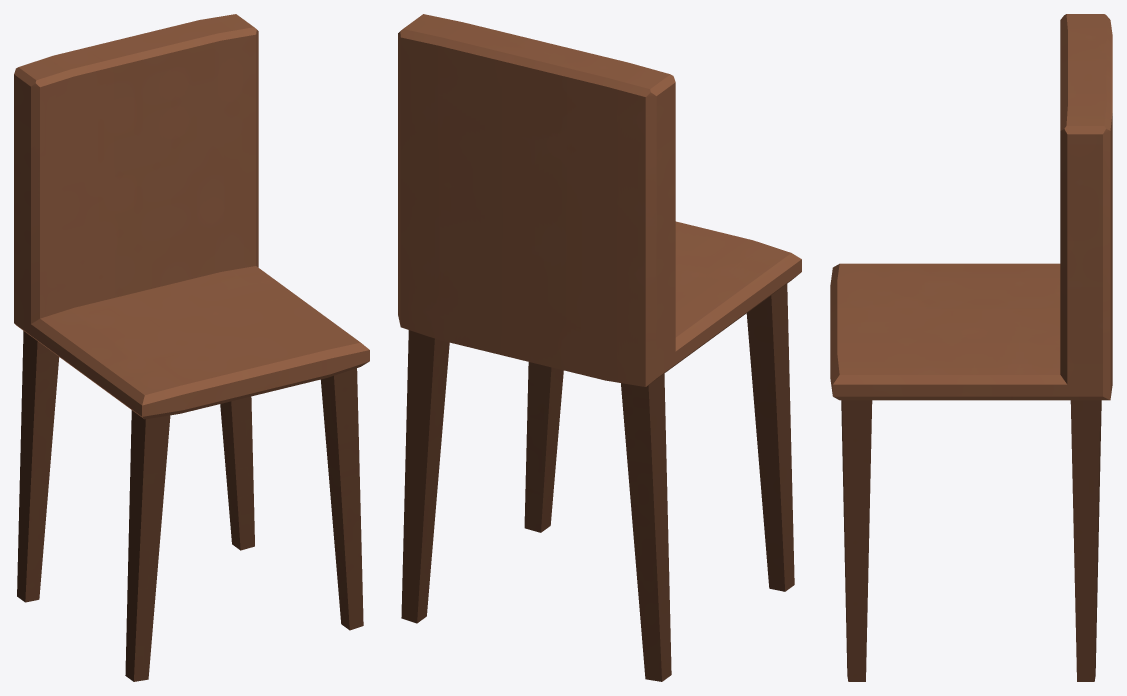
Rendered from Chair_02_01.fbx.
3 renders of one model, left to right at view 1: azimuth 30°, elevation 25°; view 2: azimuth 150°, elevation 25°; view 3: azimuth 270°, elevation 25°, orthographic. The views are drawn at different scales.
Parts seen in each view (by area): view 1: Chair_02_01; view 2: Chair_02_01; view 3: Chair_02_01.
Part boxes in pixels (<box>): Chair_02_01: <box>14,14,369,681</box>; Chair_02_01: <box>398,14,801,681</box>; Chair_02_01: <box>830,14,1112,681</box>.
Bounding box in the file's own units: 0.4836 × 1.06 × 0.4882.
